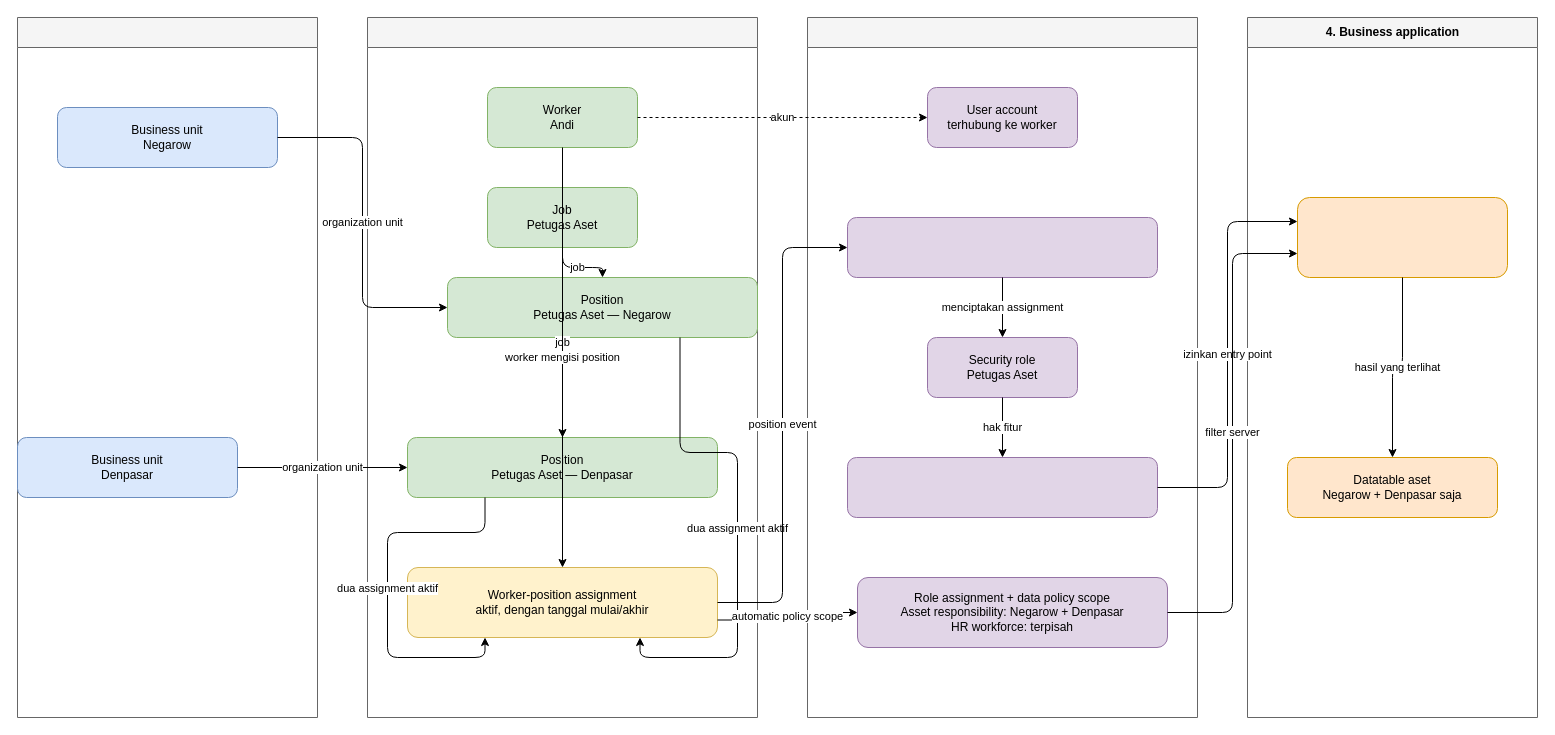
Some shapes in this 1555 by 735 pixel diagram are drawn without their labels. Here are the shapes that lost their labels. From the top down, the box of each, then its label:
(846, 216, 1158, 278): Automatic assignment rule Position Petugas Aset → role + policy
(1296, 196, 1508, 278): Management Aset permission membuka fitur data policy memutus baris data
(16, 16, 318, 718): 1. Organization administration
(366, 16, 758, 718): 2. Human Resources
(806, 16, 1198, 718): 3. Core security administration
(846, 456, 1158, 518): Duty → Privilege → Permission hak menjalankan fitur
